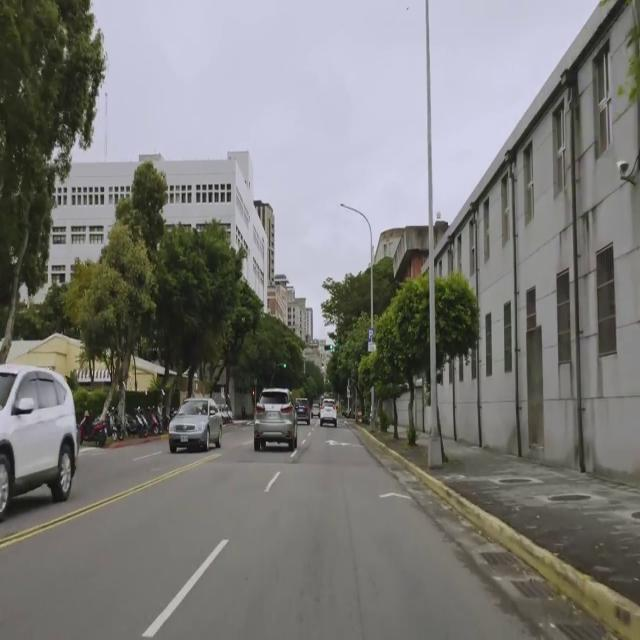green light: (324, 345, 334, 350), (279, 362, 286, 368)
